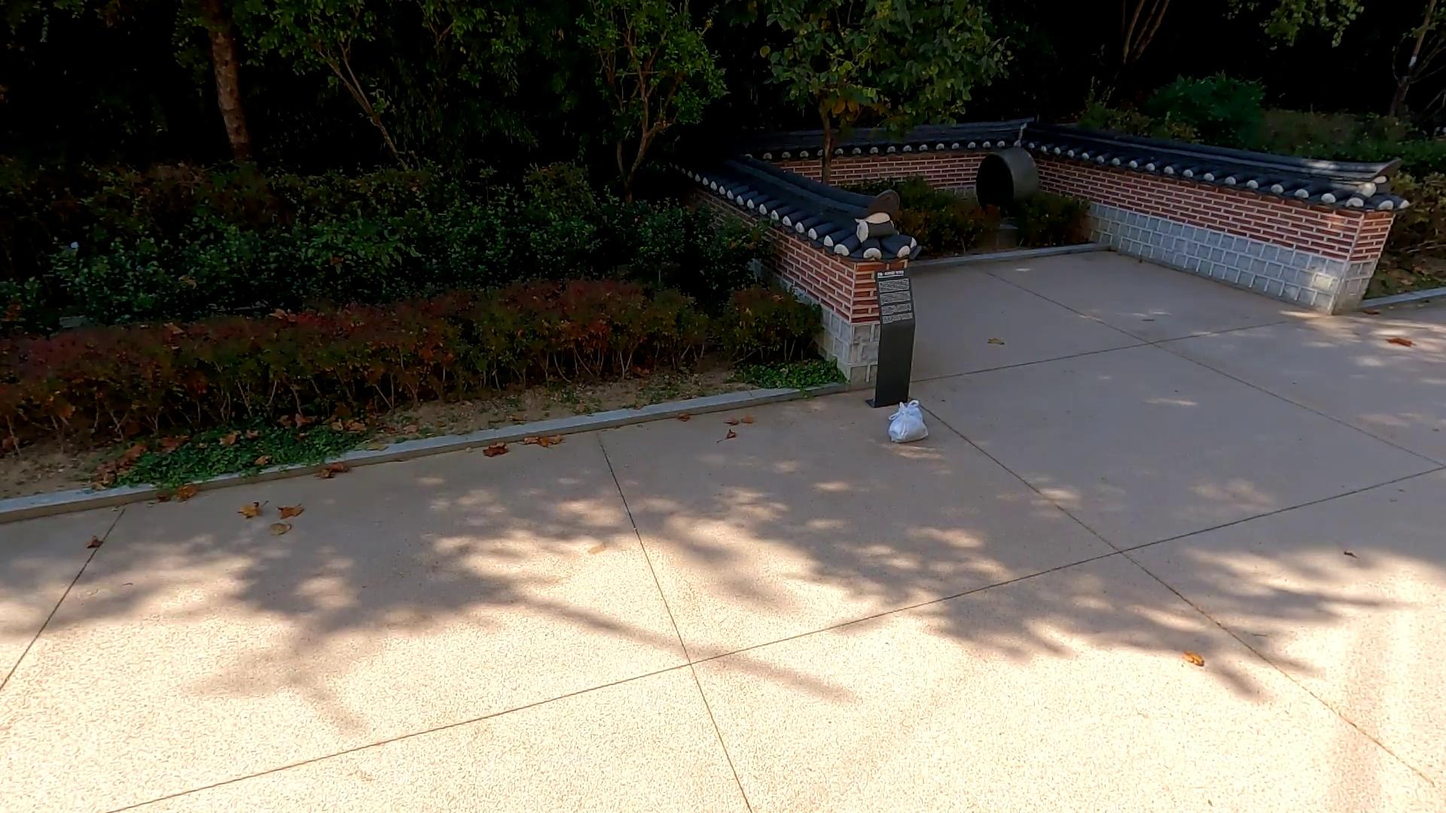trash: (888, 410, 928, 444), (888, 399, 927, 433)
